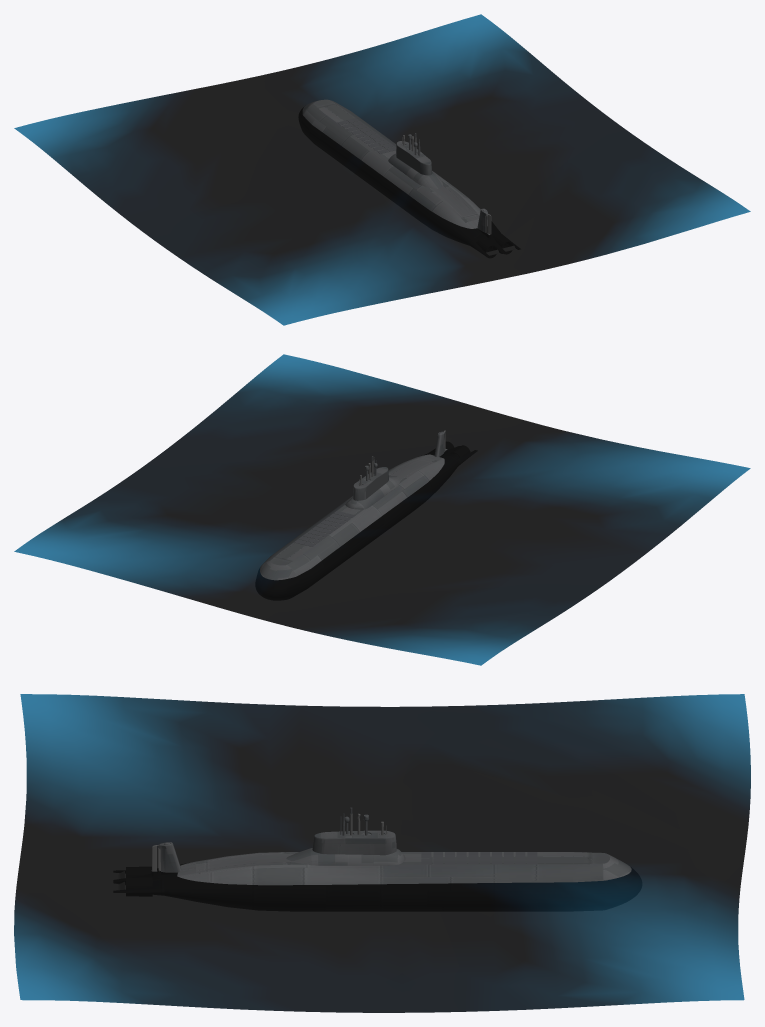
The model's file is typhoon.glb.
The picture shows the model from 3 angles, top to bottom: view 1: azimuth 30°, elevation 25°; view 2: azimuth 150°, elevation 25°; view 3: azimuth 270°, elevation 25°; orthographic projection. The views are drawn at different scales.
Visible parts, largest first — view 1: Object_40, Object_4; view 2: Object_40, Object_4; view 3: Object_40, Object_4.
Boxes of the visible parts, box(x1,y1,x2,y2) form: Object_40: box(14, 14, 750, 325); Object_4: box(302, 99, 490, 235); Object_40: box(14, 354, 750, 665); Object_4: box(260, 431, 447, 580); Object_40: box(14, 694, 750, 1012); Object_4: box(151, 807, 631, 885).
Bounding box in the file's own units: 6.75 × 0.9947 × 6.85.
Materials: 4 (1 with a texture image).
